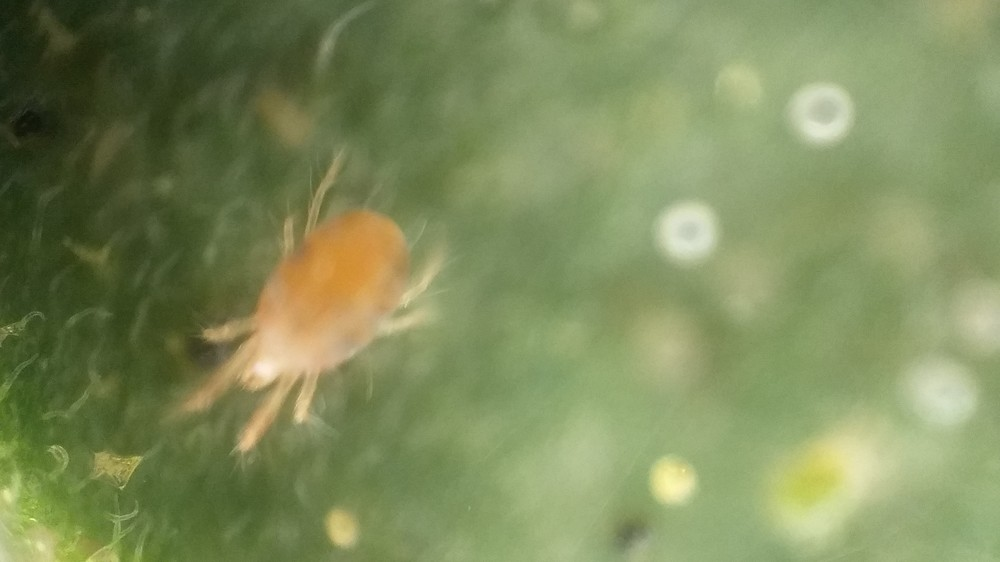Aracnido Rojo: (160, 156, 451, 461)
